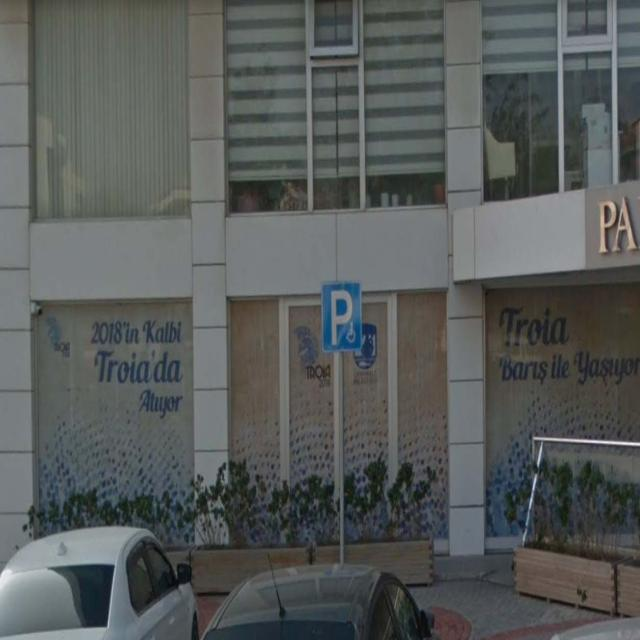park: (320, 283, 362, 352)
